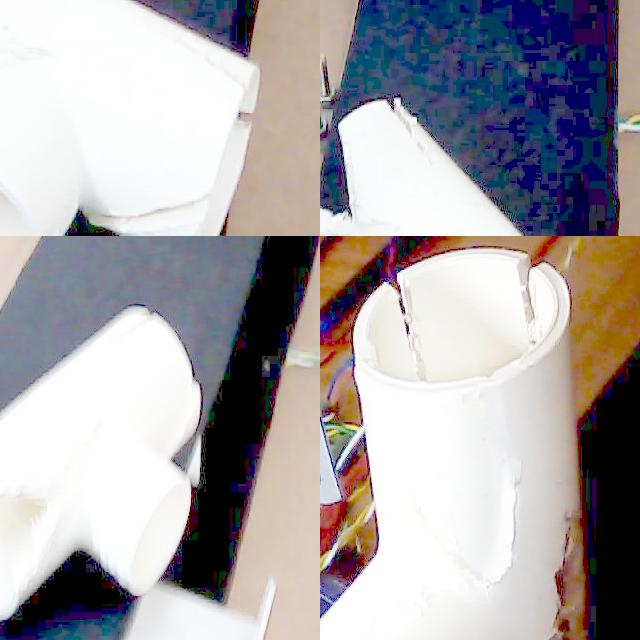Defective: (40, 126, 214, 233), (114, 2, 256, 125), (473, 422, 532, 607), (518, 503, 591, 640), (0, 464, 56, 611), (320, 142, 406, 236), (382, 281, 443, 395), (373, 96, 447, 182), (511, 252, 547, 354), (402, 281, 425, 380), (549, 573, 581, 640), (513, 258, 537, 344), (511, 481, 519, 553), (481, 494, 494, 511)
T Joint: (0, 307, 202, 623), (320, 100, 520, 236)
